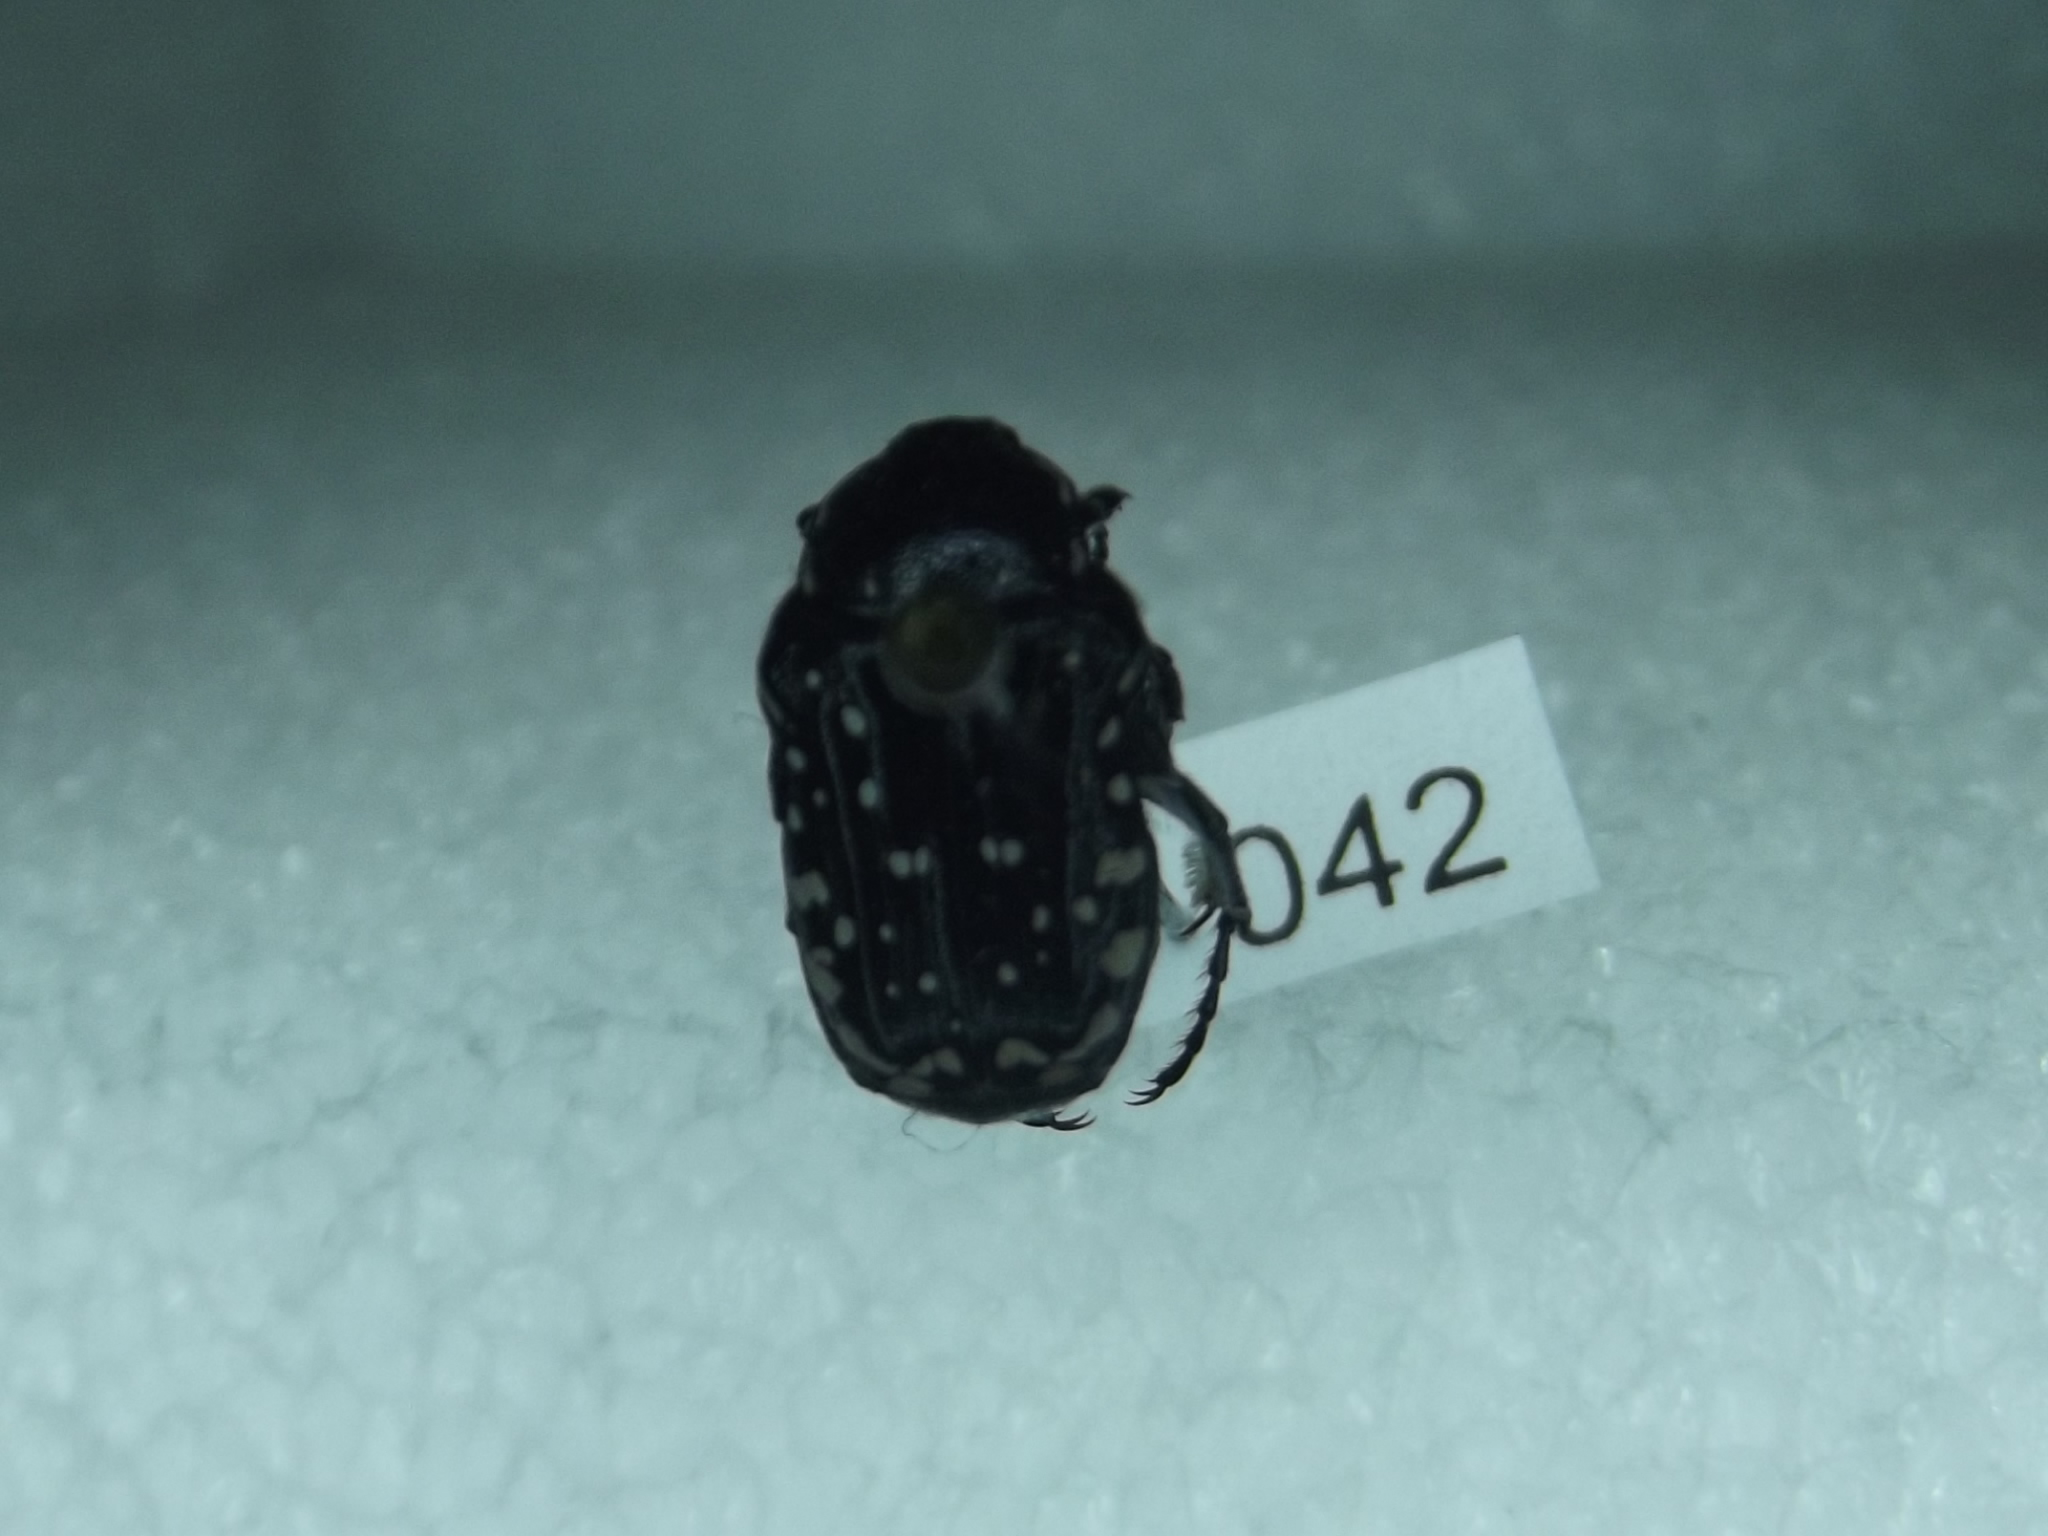Oxythyrea_cinctella: (750, 379, 1250, 1150)
